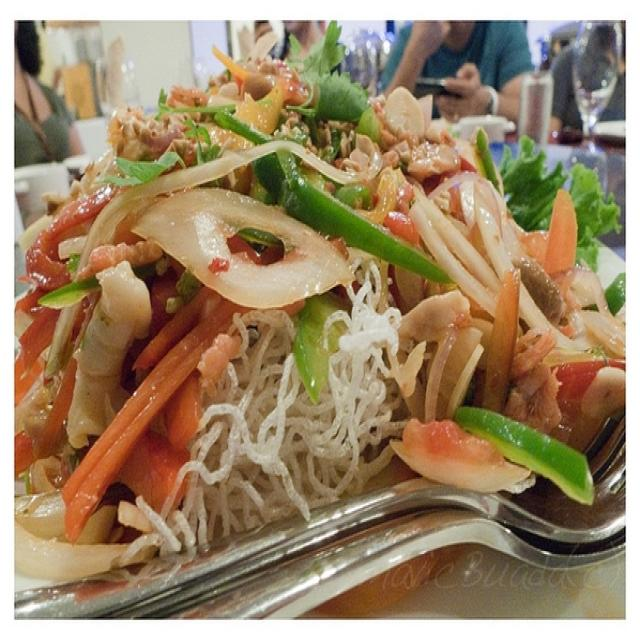面条主食: (30, 40, 636, 598)
